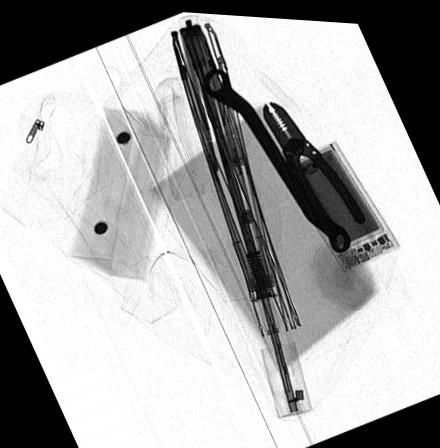Pliers: (262, 95, 366, 231)
Powerbank: (280, 136, 401, 267)
Wrench: (202, 64, 352, 246)
